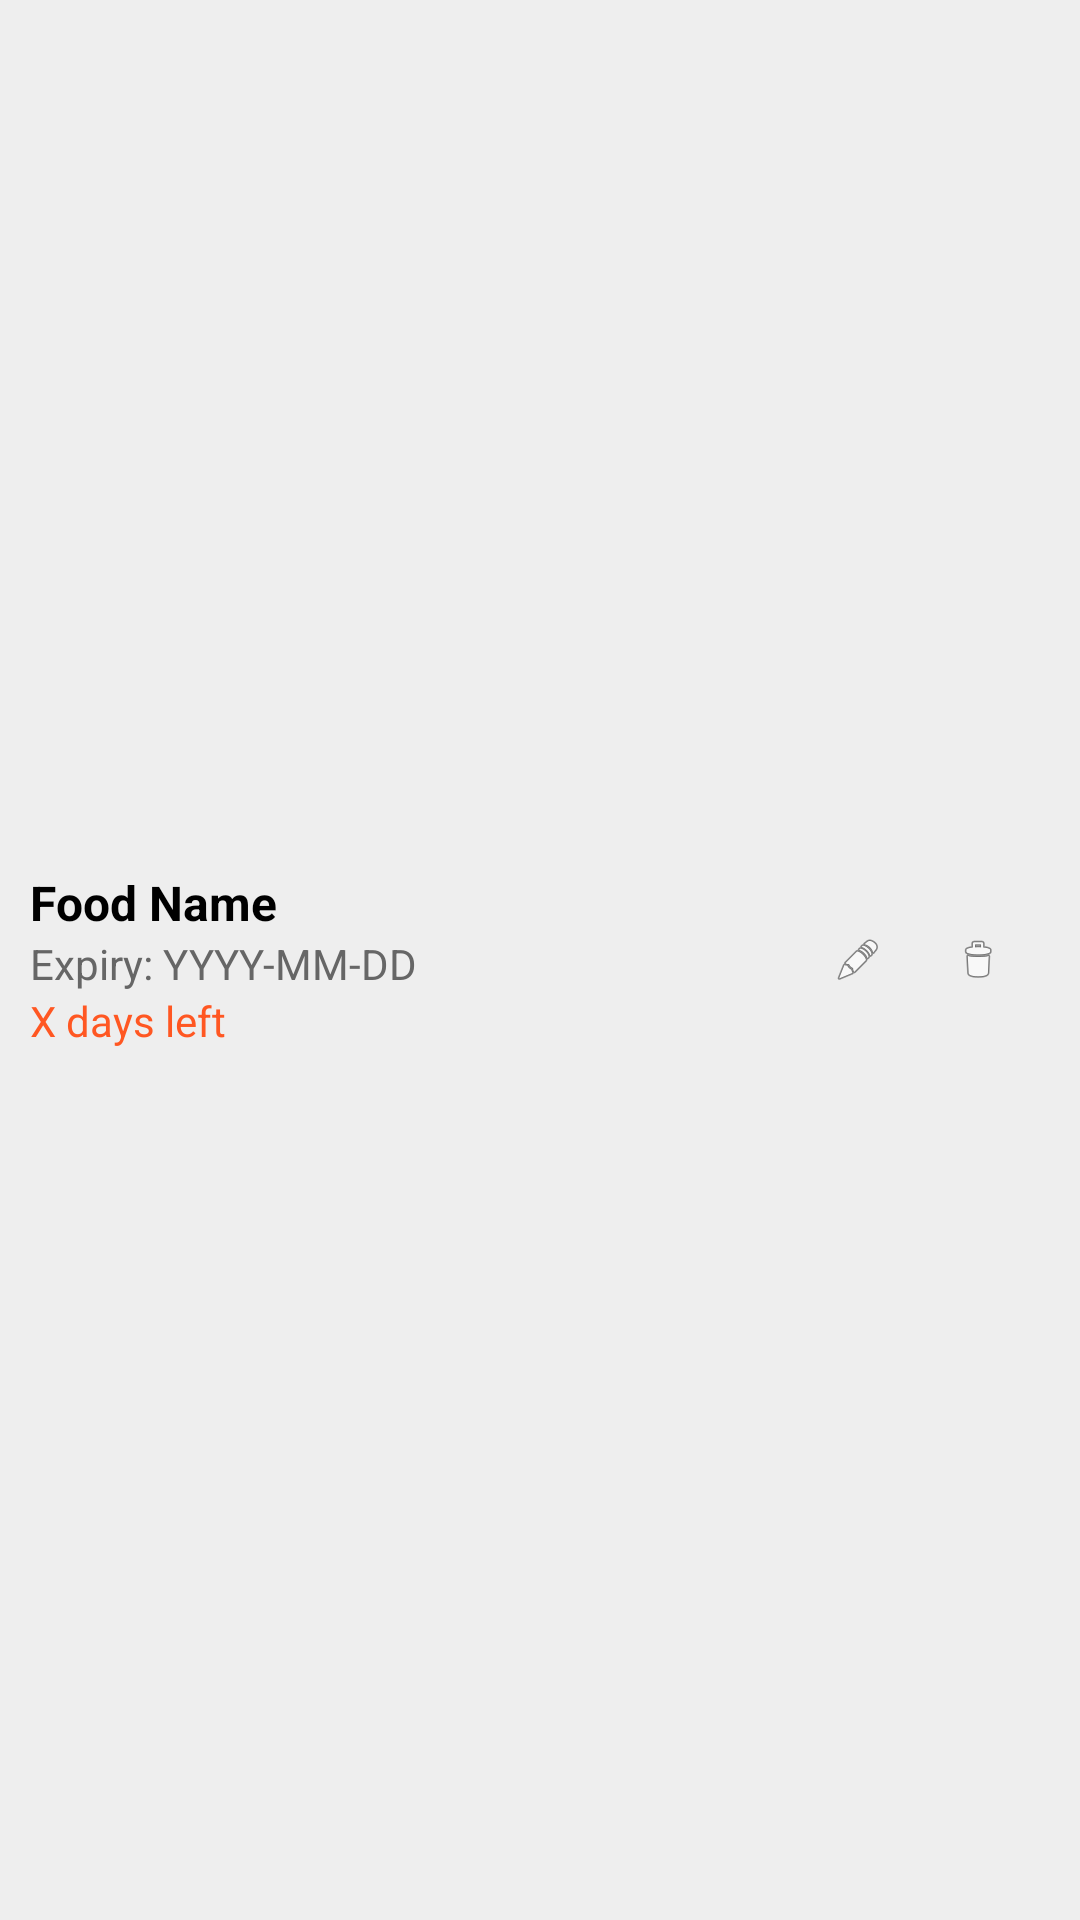

Named icons in this screenshot (1080x1920) and their centers, point (x, y):
Delete: point (978, 959)
Edit: point (857, 959)
